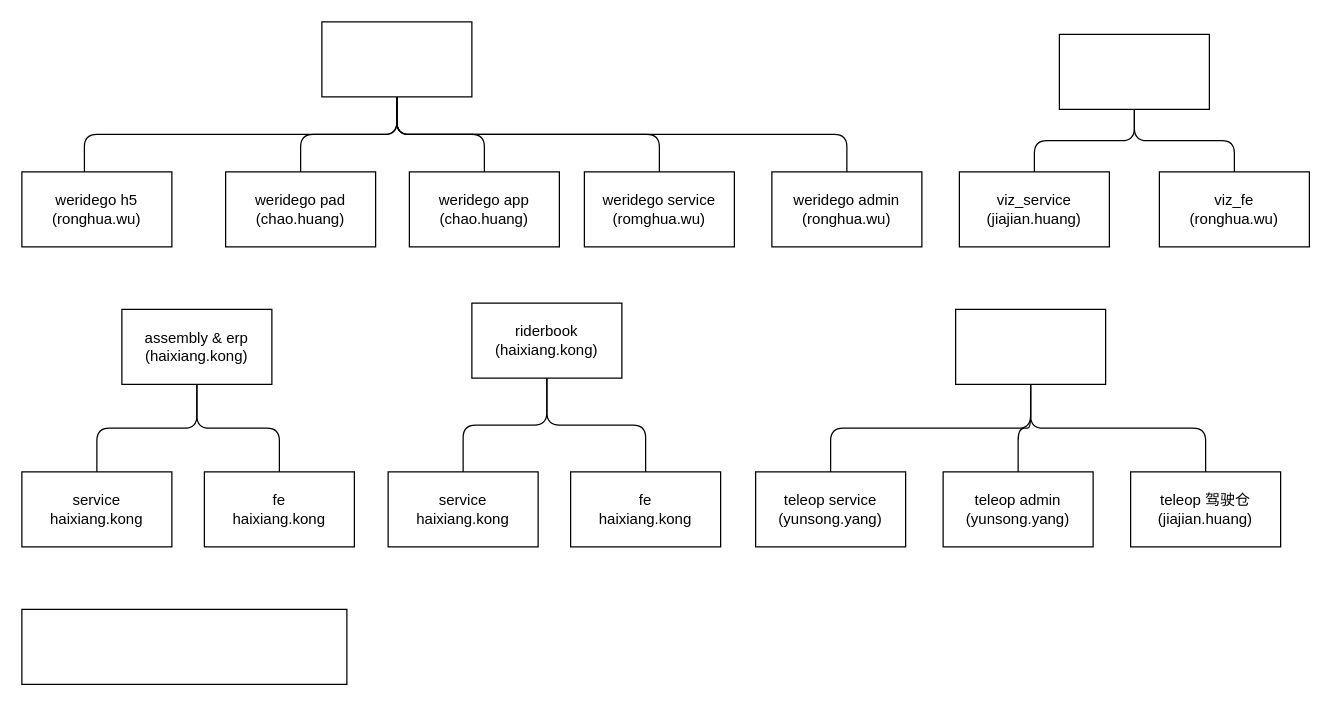
The diagram is 1331 pixels wide and 706 high, and some of its shapes have lost their labels. The box of each missing label's shape, as (x1, y1, x2, y2) in pixels:
rider & rider-collector & rider-account & other ronghua.wu: (21, 608, 347, 684)
teleop (yunsonglyang): (954, 308, 1106, 384)
viz (jiajian.huang): (1058, 33, 1209, 109)
weridego (chao.huang): (321, 21, 472, 97)
